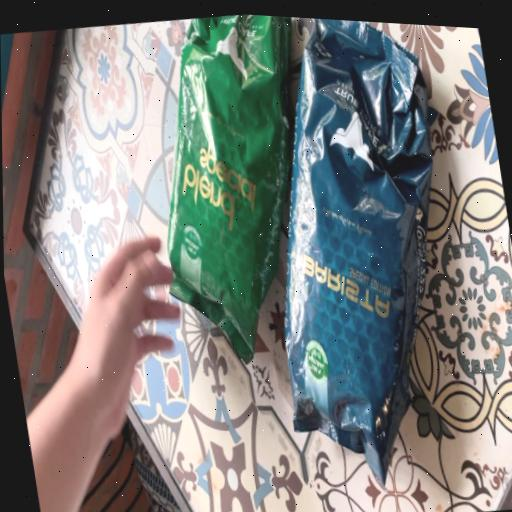cafe_hat: (285, 19, 432, 480)
cafe_xay: (167, 14, 293, 361)
